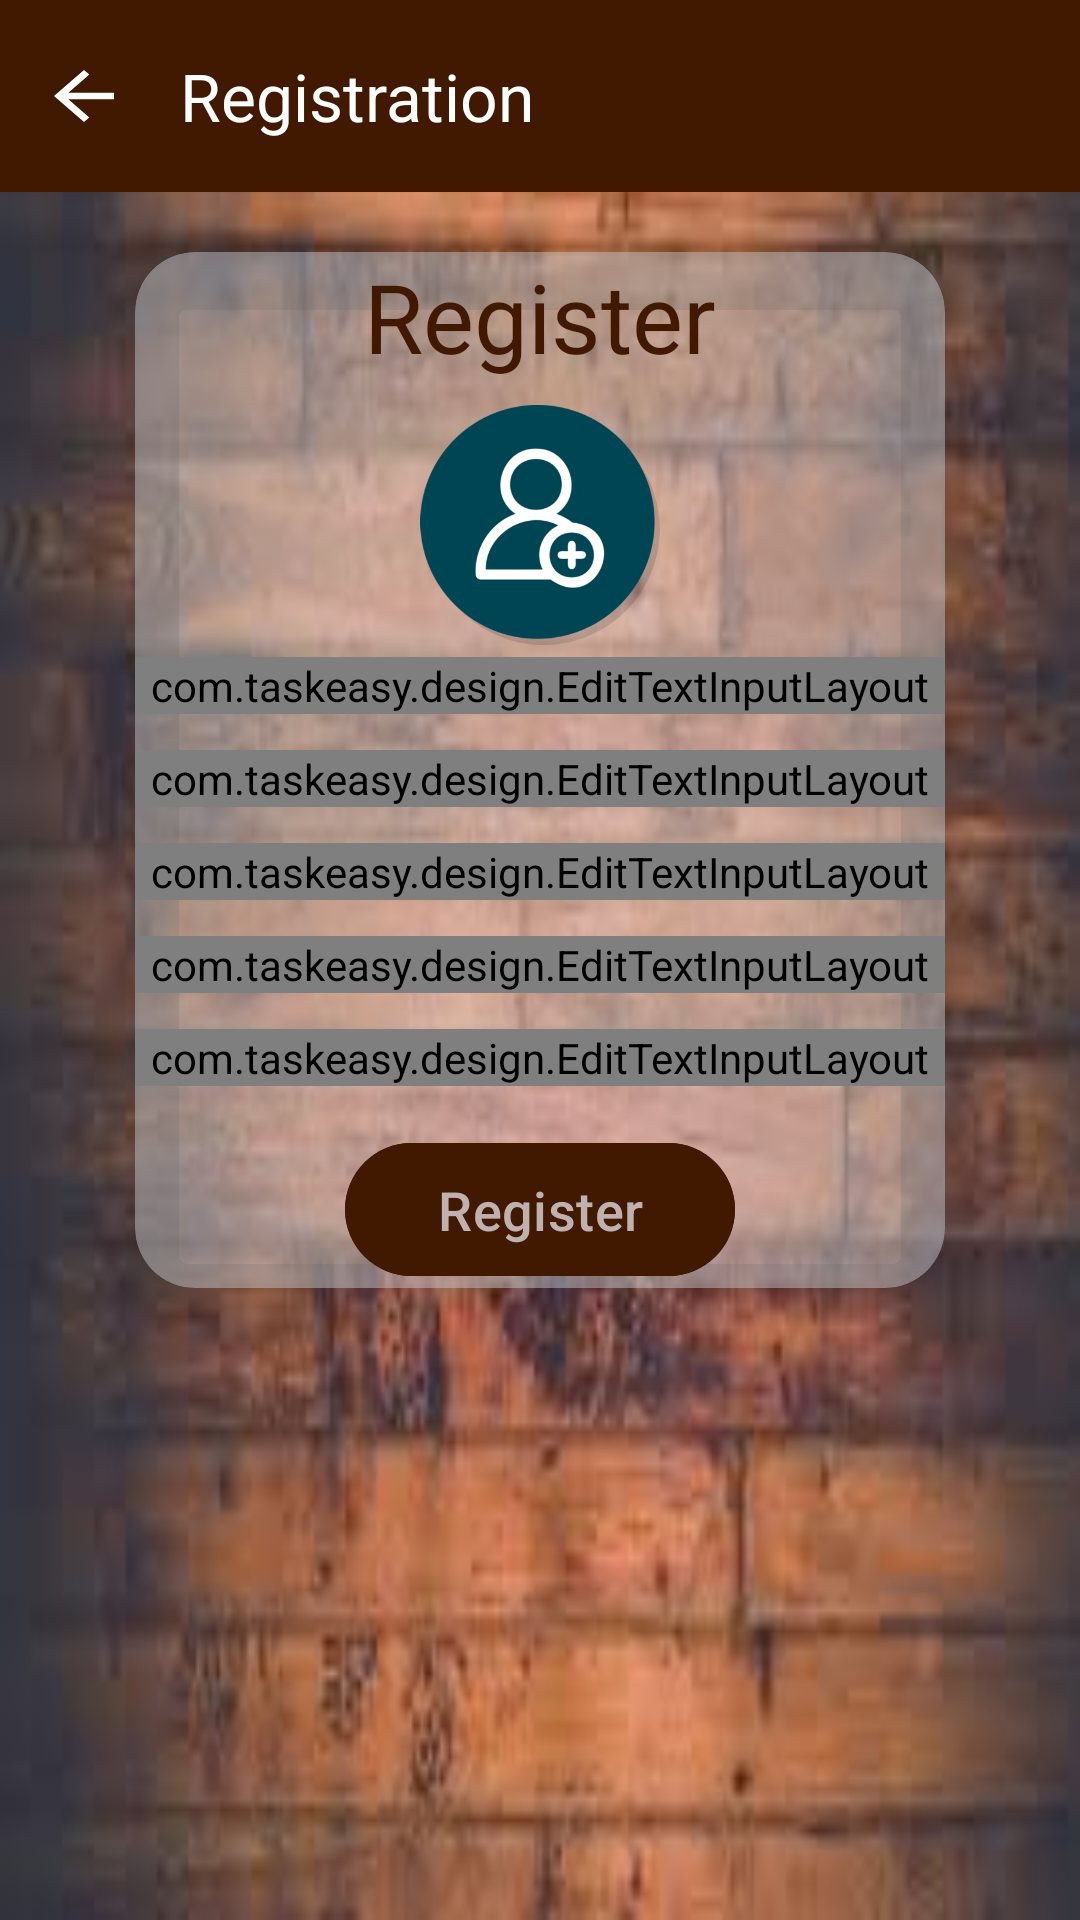

Icons on this 1080px x 1920px Android screen, each with its box as (x1=x1, y1=y1, x2=x2, y2=y2):
profile: (x1=405, y1=405, x2=675, y2=645)
